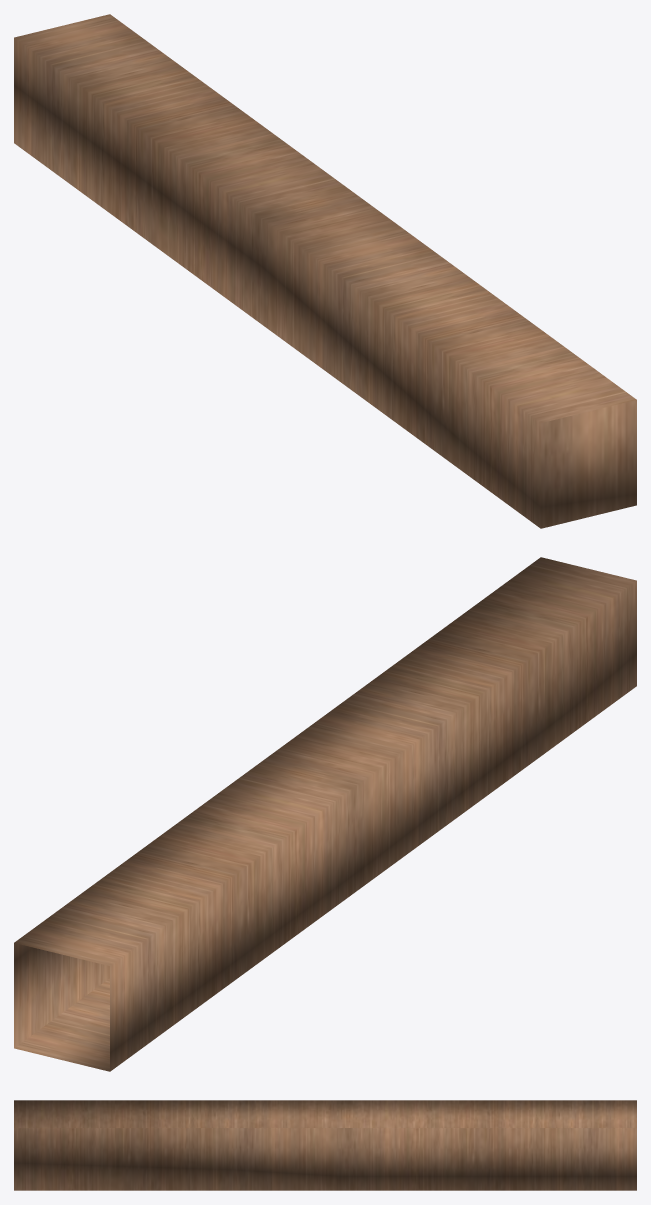
3 views of the same model, one above another, from view 1: azimuth 30°, elevation 25°; view 2: azimuth 150°, elevation 25°; view 3: azimuth 270°, elevation 25° (orthographic). The views are drawn at different scales.
Visible parts, largest first — view 1: Cube146_Wood_02001_0; view 2: Cube146_Wood_02001_0; view 3: Cube146_Wood_02001_0.
Boxes of the visible parts, bbox=[...] form: Cube146_Wood_02001_0: bbox=[14, 14, 636, 528]; Cube146_Wood_02001_0: bbox=[14, 557, 636, 1071]; Cube146_Wood_02001_0: bbox=[14, 1100, 636, 1190].
Bounding box in the file's own units: 0.2 × 0.21 × 1.9.
Materials: 1 (1 with a texture image).
